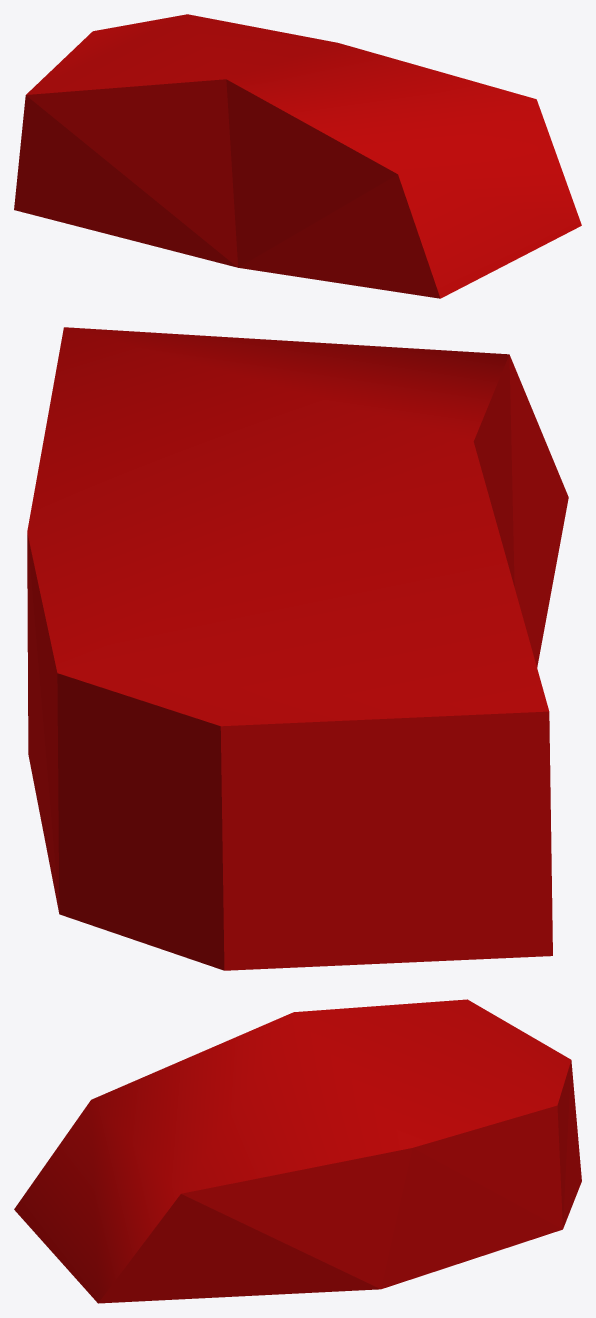
File: s_ruin_rubble_1.glb
3 views of the same model, one above another, from view 1: azimuth 30°, elevation 25°; view 2: azimuth 150°, elevation 25°; view 3: azimuth 270°, elevation 25° (orthographic). The views are drawn at different scales.
Visible parts, largest first — view 1: MODEL_s_ruin_rubble_1; view 2: MODEL_s_ruin_rubble_1; view 3: MODEL_s_ruin_rubble_1.
Part boxes in pixels (<box>): MODEL_s_ruin_rubble_1: <box>14,14,581,298</box>; MODEL_s_ruin_rubble_1: <box>27,327,568,970</box>; MODEL_s_ruin_rubble_1: <box>14,999,581,1303</box>.
Size of the model in its own units: 0.5549 by 0.2375 by 0.655.
